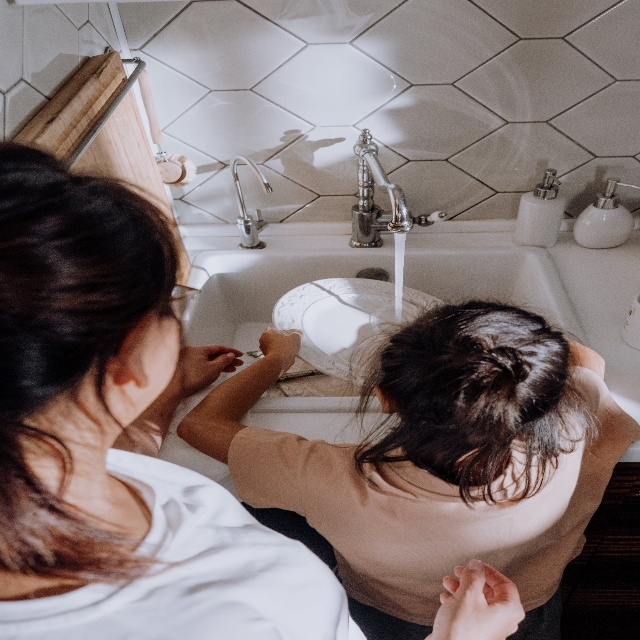Gafas: (169, 284, 202, 318)
Sin_guantes: (428, 559, 525, 640), (166, 344, 244, 400)
